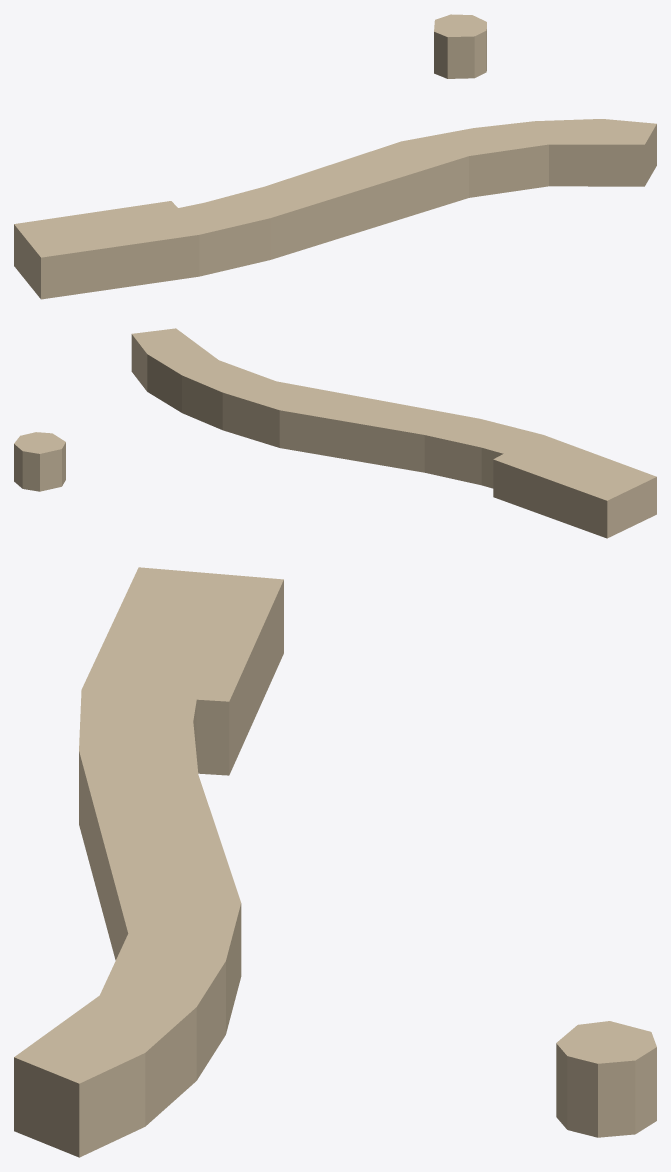
The model's file is 12_7-estimated-coarse.glb.
The picture shows the model from 3 angles, top to bottom: view 1: azimuth 30°, elevation 25°; view 2: azimuth 150°, elevation 25°; view 3: azimuth 270°, elevation 25°; orthographic projection. The views are drawn at different scales.
Bounding box in the file's own units: 180 × 12 × 94.59.
